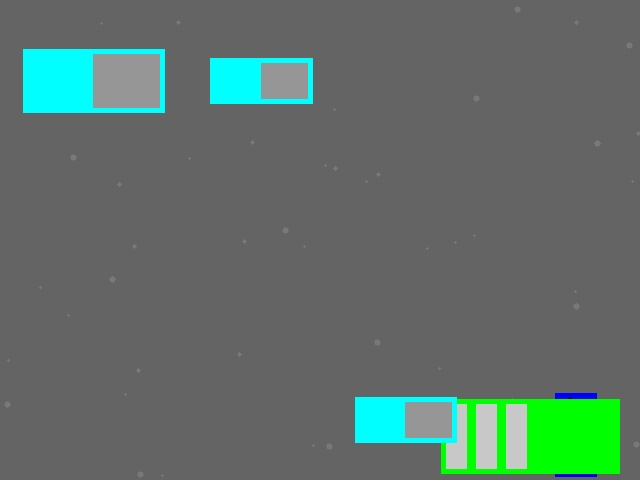bus: (441, 399, 619, 473)
motorcycle: (555, 393, 596, 476)
truck: (23, 49, 164, 112), (210, 58, 312, 103), (355, 397, 456, 442)
